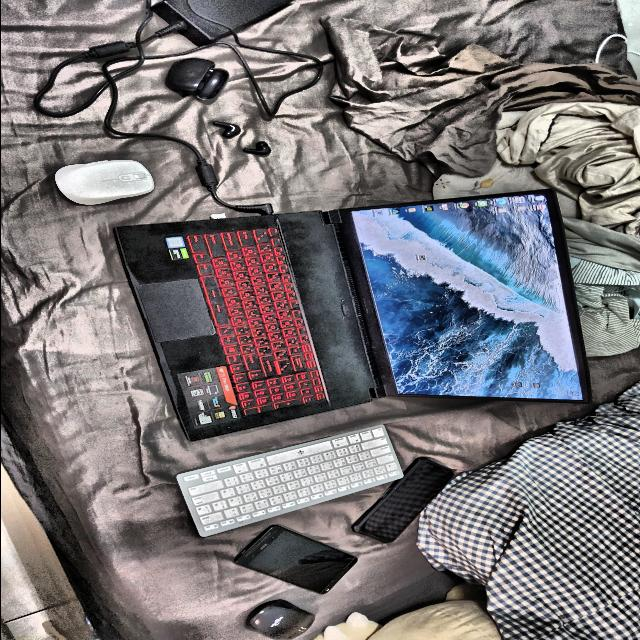laptop: (113, 189, 590, 441)
